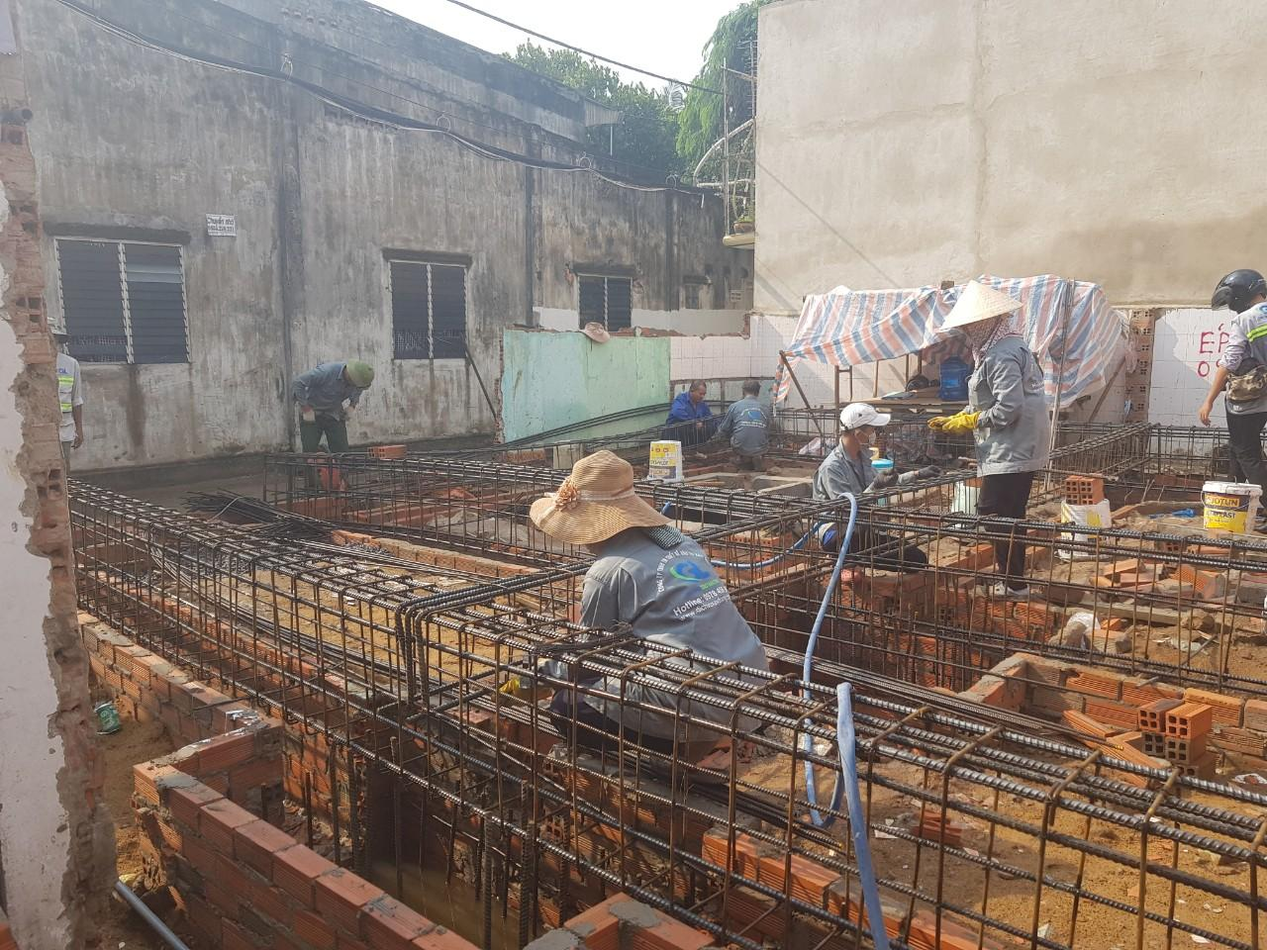Gloves: (927, 407, 979, 433), (873, 465, 900, 488), (916, 460, 941, 482), (301, 406, 318, 423), (341, 404, 355, 421)
Helmet: (538, 459, 663, 543), (932, 279, 1024, 330), (1210, 268, 1265, 312), (838, 402, 891, 430), (345, 359, 374, 388)
Person: (528, 449, 771, 785), (926, 279, 1051, 598), (811, 402, 927, 582), (1198, 268, 1266, 532), (289, 359, 374, 493), (714, 378, 771, 469), (53, 336, 84, 472), (662, 379, 718, 448)
no-helmet: (689, 378, 707, 390), (745, 379, 760, 390)
no-vest: (589, 548, 759, 724), (974, 346, 1048, 477), (817, 456, 876, 520), (297, 362, 352, 410), (725, 402, 765, 451), (670, 393, 708, 422)
